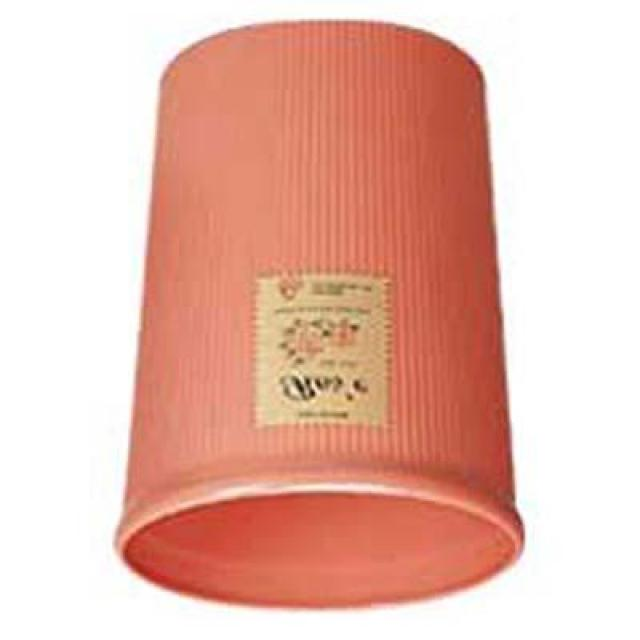dustbin: (111, 14, 527, 619)
